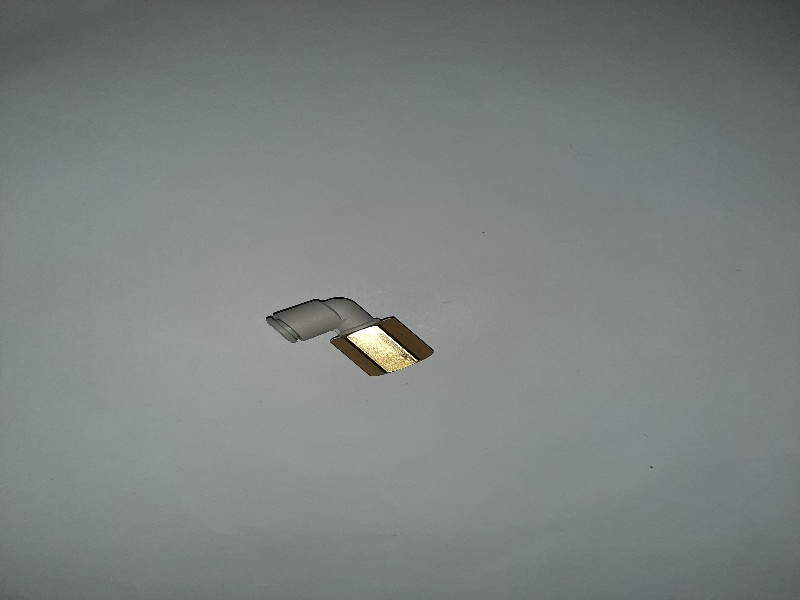Connector: (261, 287, 440, 381)
